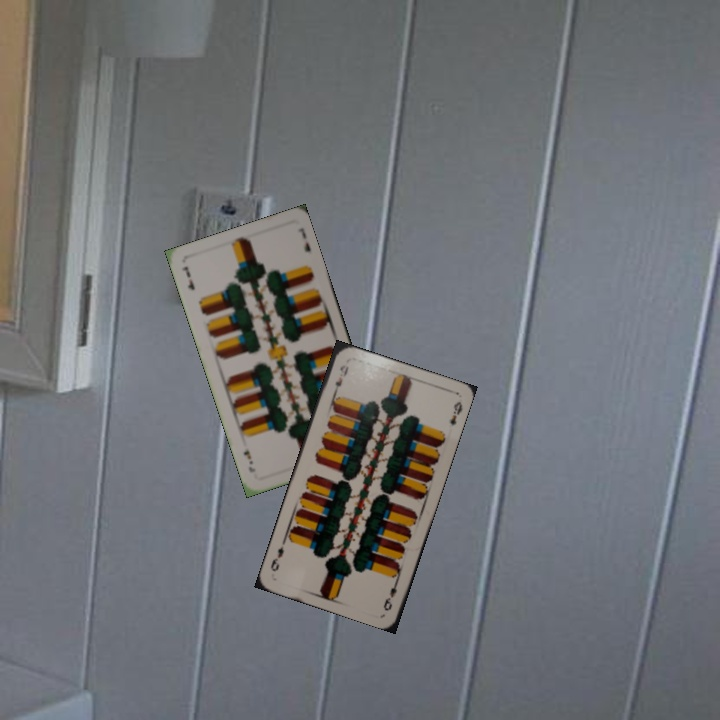E7: (178, 262, 197, 293)
E9: (379, 574, 401, 613), (329, 361, 351, 398)
